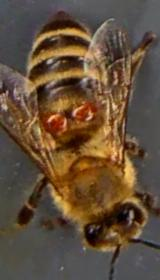varroa_mite: (41, 108, 68, 134), (69, 102, 96, 125)
